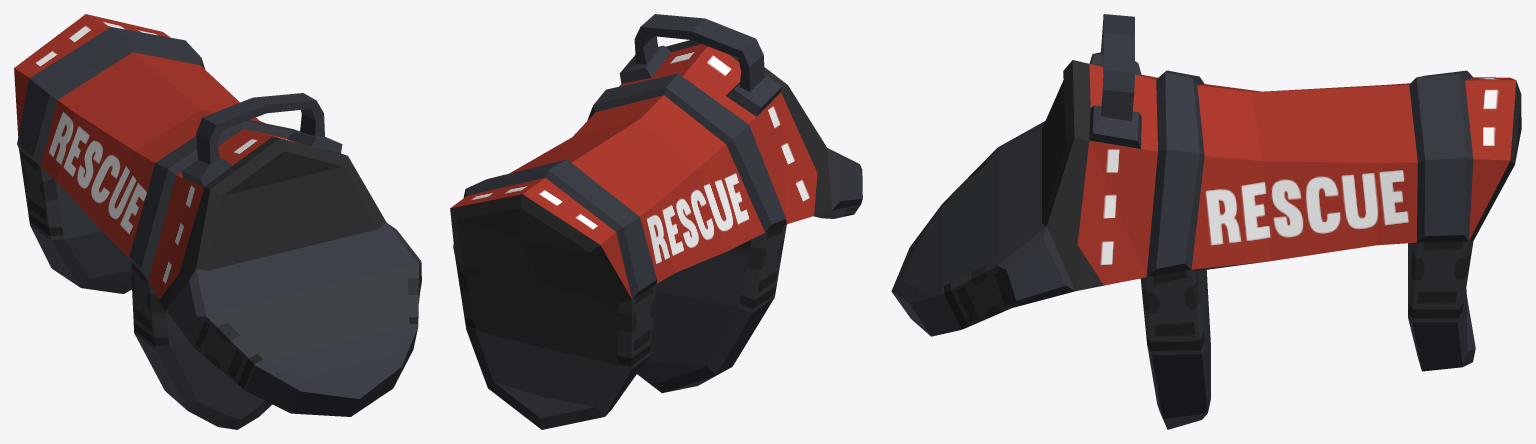
Rendered from SK_Chr_Attach_Vest_Rescue_Large_01.fbx.
3 renders of one model, left to right at view 1: azimuth 30°, elevation 25°; view 2: azimuth 150°, elevation 25°; view 3: azimuth 270°, elevation 25°, orthographic. The views are drawn at different scales.
Parts seen in each view (by area): view 1: SK_Chr_Attach_Vest_Rescue_Large_01; view 2: SK_Chr_Attach_Vest_Rescue_Large_01; view 3: SK_Chr_Attach_Vest_Rescue_Large_01.
Boxes of the visible parts, bbox=[...] form: SK_Chr_Attach_Vest_Rescue_Large_01: bbox=[14, 14, 421, 429]; SK_Chr_Attach_Vest_Rescue_Large_01: bbox=[450, 14, 862, 429]; SK_Chr_Attach_Vest_Rescue_Large_01: bbox=[891, 14, 1521, 429].
Bounding box in the file's own units: 34.71 × 48.97 × 70.75.
